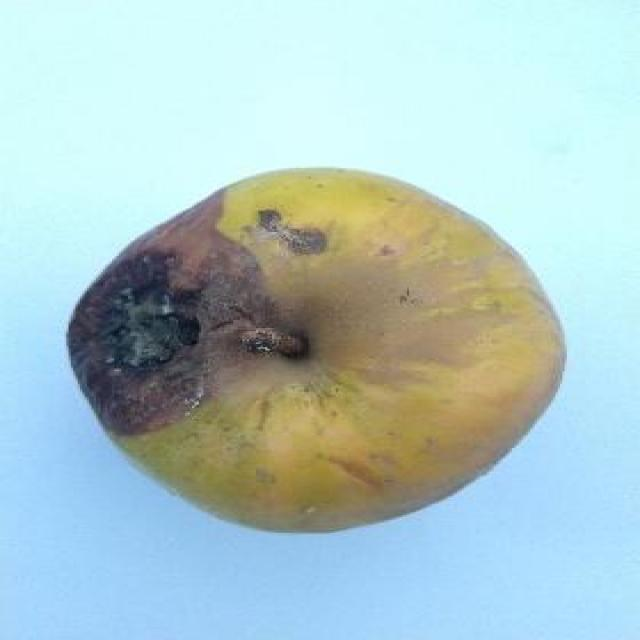Rotten: (53, 185, 612, 535)
